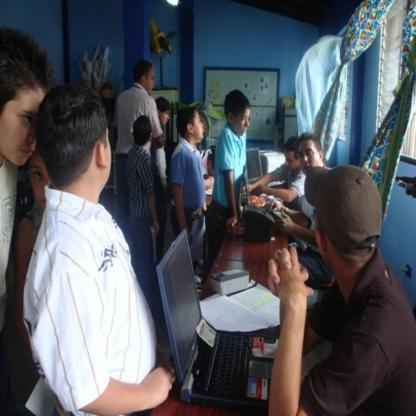board: (154, 256, 286, 409)
